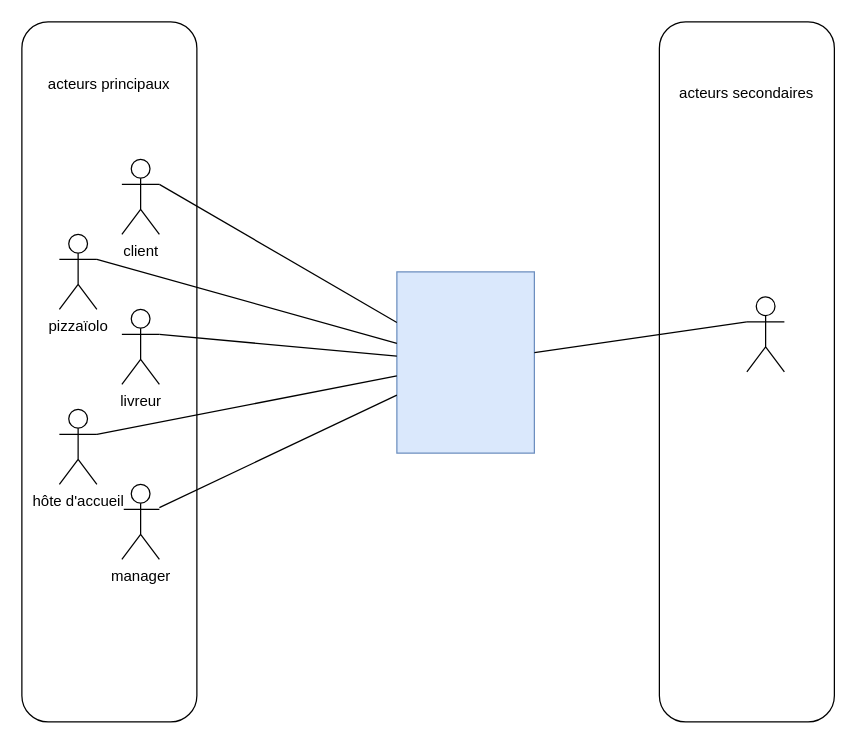
Some shapes in this 856 by 744 pixel diagram are drawn without their labels. The centre of each missing label's shape, as x and y in pixels:
"<<<système>>> système bancaire" goes at (765,334).
"système" goes at (465,362).
